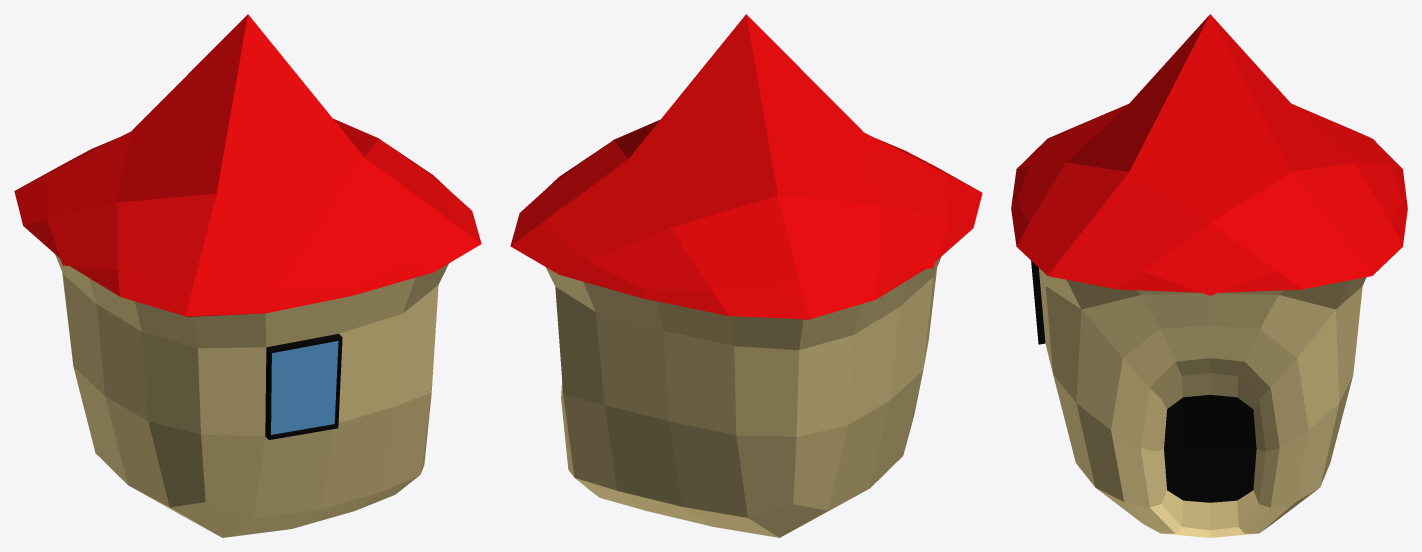
The model's file is House1.fbx.
3 renders of one model, left to right at view 1: azimuth 30°, elevation 25°; view 2: azimuth 150°, elevation 25°; view 3: azimuth 270°, elevation 25°, orthographic. The views are drawn at different scales.
Visible parts, largest first — view 1: Cube; view 2: Cube; view 3: Cube.
Boxes of the visible parts, left/top/right/bottom form: Cube: left=14, top=14, right=481, bottom=537; Cube: left=510, top=14, right=982, bottom=537; Cube: left=1011, top=14, right=1407, bottom=537.
Size of the model in its own units: 783 by 985 by 765.
